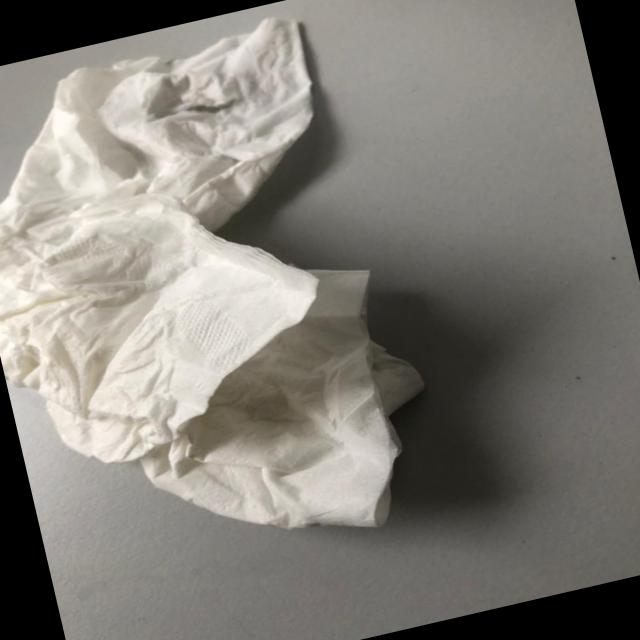organic waste: (0, 0, 475, 605)
